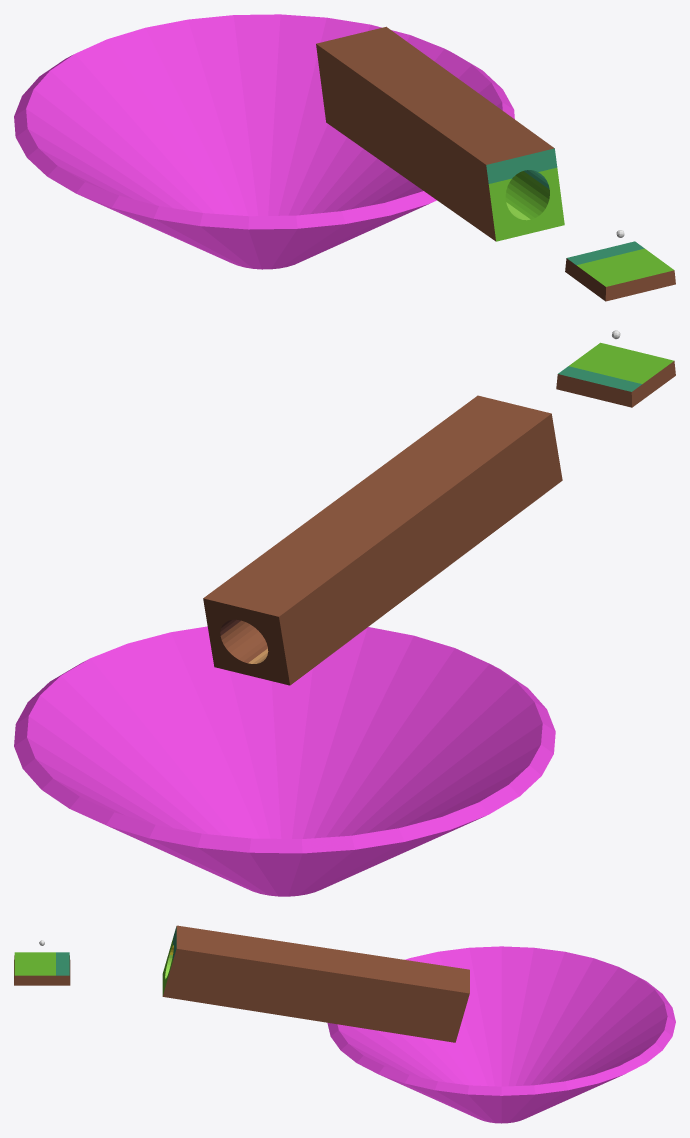
3 views of the same model, one above another, from view 1: azimuth 30°, elevation 25°; view 2: azimuth 150°, elevation 25°; view 3: azimuth 270°, elevation 25° (orthographic). The views are drawn at different scales.
Visible parts, largest first — view 1: Cylinder, pipe, moveable; view 2: Cylinder, pipe, moveable; view 3: Cylinder, pipe, moveable.
Boxes of the visible parts, x1,y1,x2,y2 form: Cylinder: [14, 14, 514, 269]; pipe: [316, 26, 564, 241]; moveable: [565, 241, 675, 301]; Cylinder: [14, 626, 555, 896]; pipe: [203, 395, 562, 685]; moveable: [556, 342, 675, 407]; Cylinder: [327, 946, 675, 1123]; pipe: [162, 925, 469, 1042]; moveable: [14, 952, 70, 985].
Bounding box in the file's own units: 12.38 × 7.07 × 23.51.
3 materials, 2 textured.
